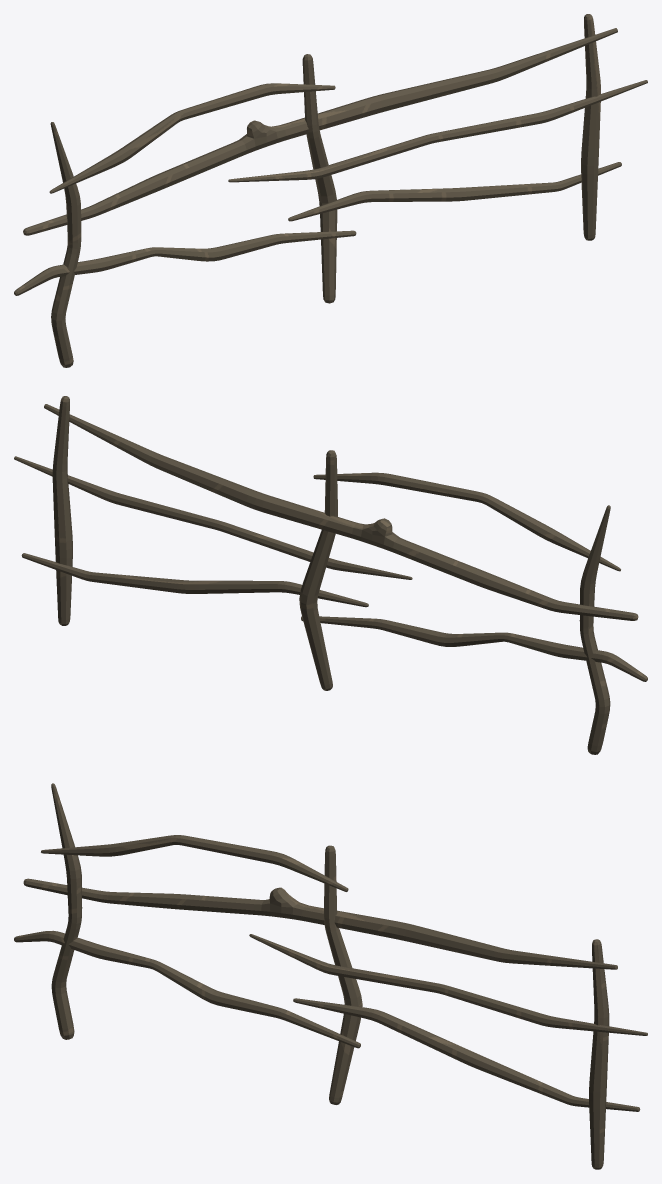
File: valla completaGaB.fbx
The picture shows the model from 3 angles, top to bottom: view 1: azimuth 30°, elevation 25°; view 2: azimuth 150°, elevation 25°; view 3: azimuth 330°, elevation 25°; orthographic projection.
Parts seen in each view (by area): view 1: Vert.031; view 2: Vert.031; view 3: Vert.031.
Boxes of the visible parts, x1,y1,x2,y2 form: Vert.031: (14, 14, 647, 367); Vert.031: (14, 396, 647, 754); Vert.031: (14, 783, 647, 1169).
Size of the model in its own units: 1451 by 550 by 90.13.
